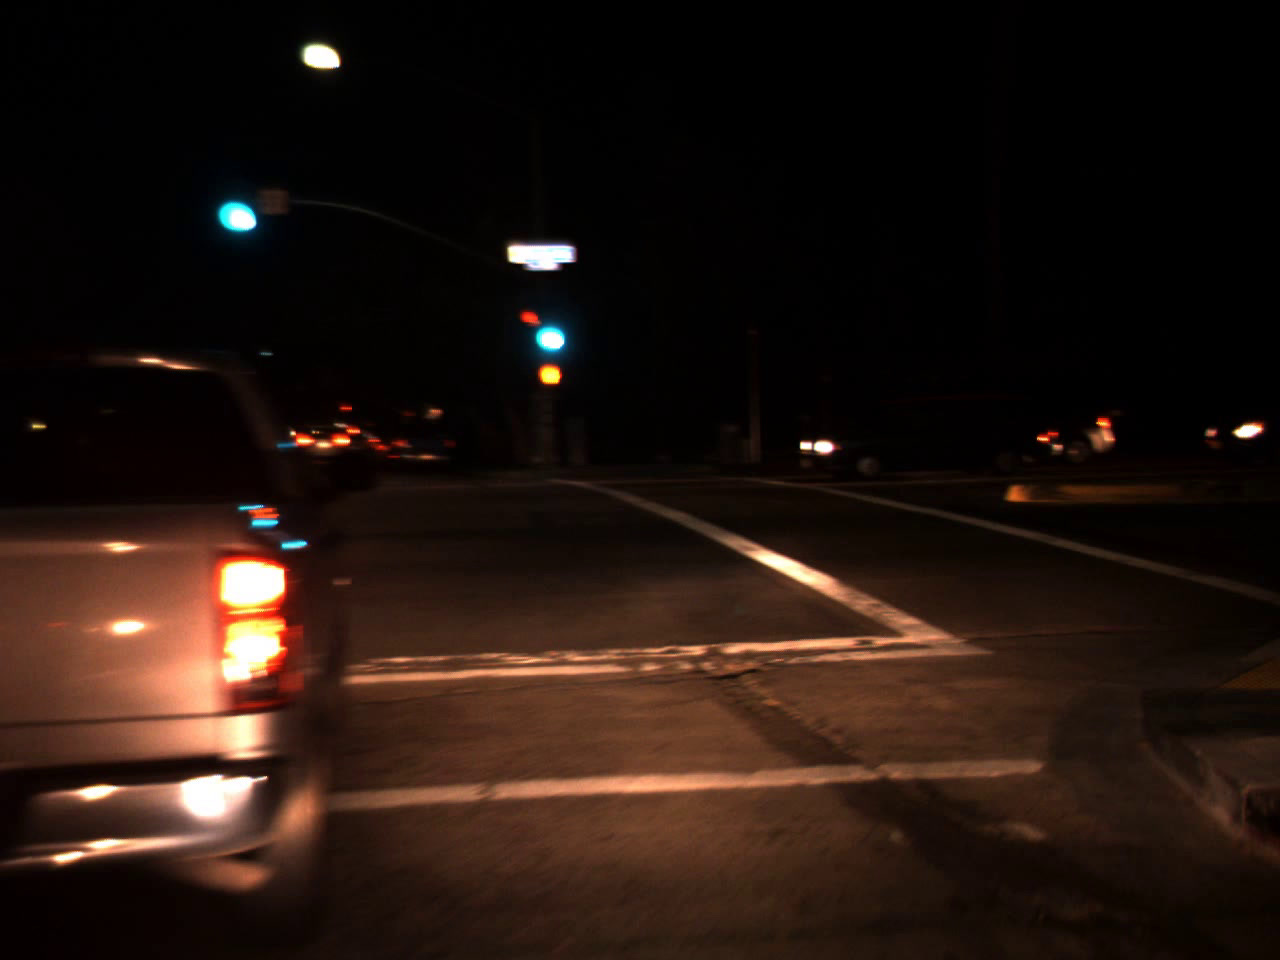go: (209, 166, 261, 244), (523, 295, 571, 361)
